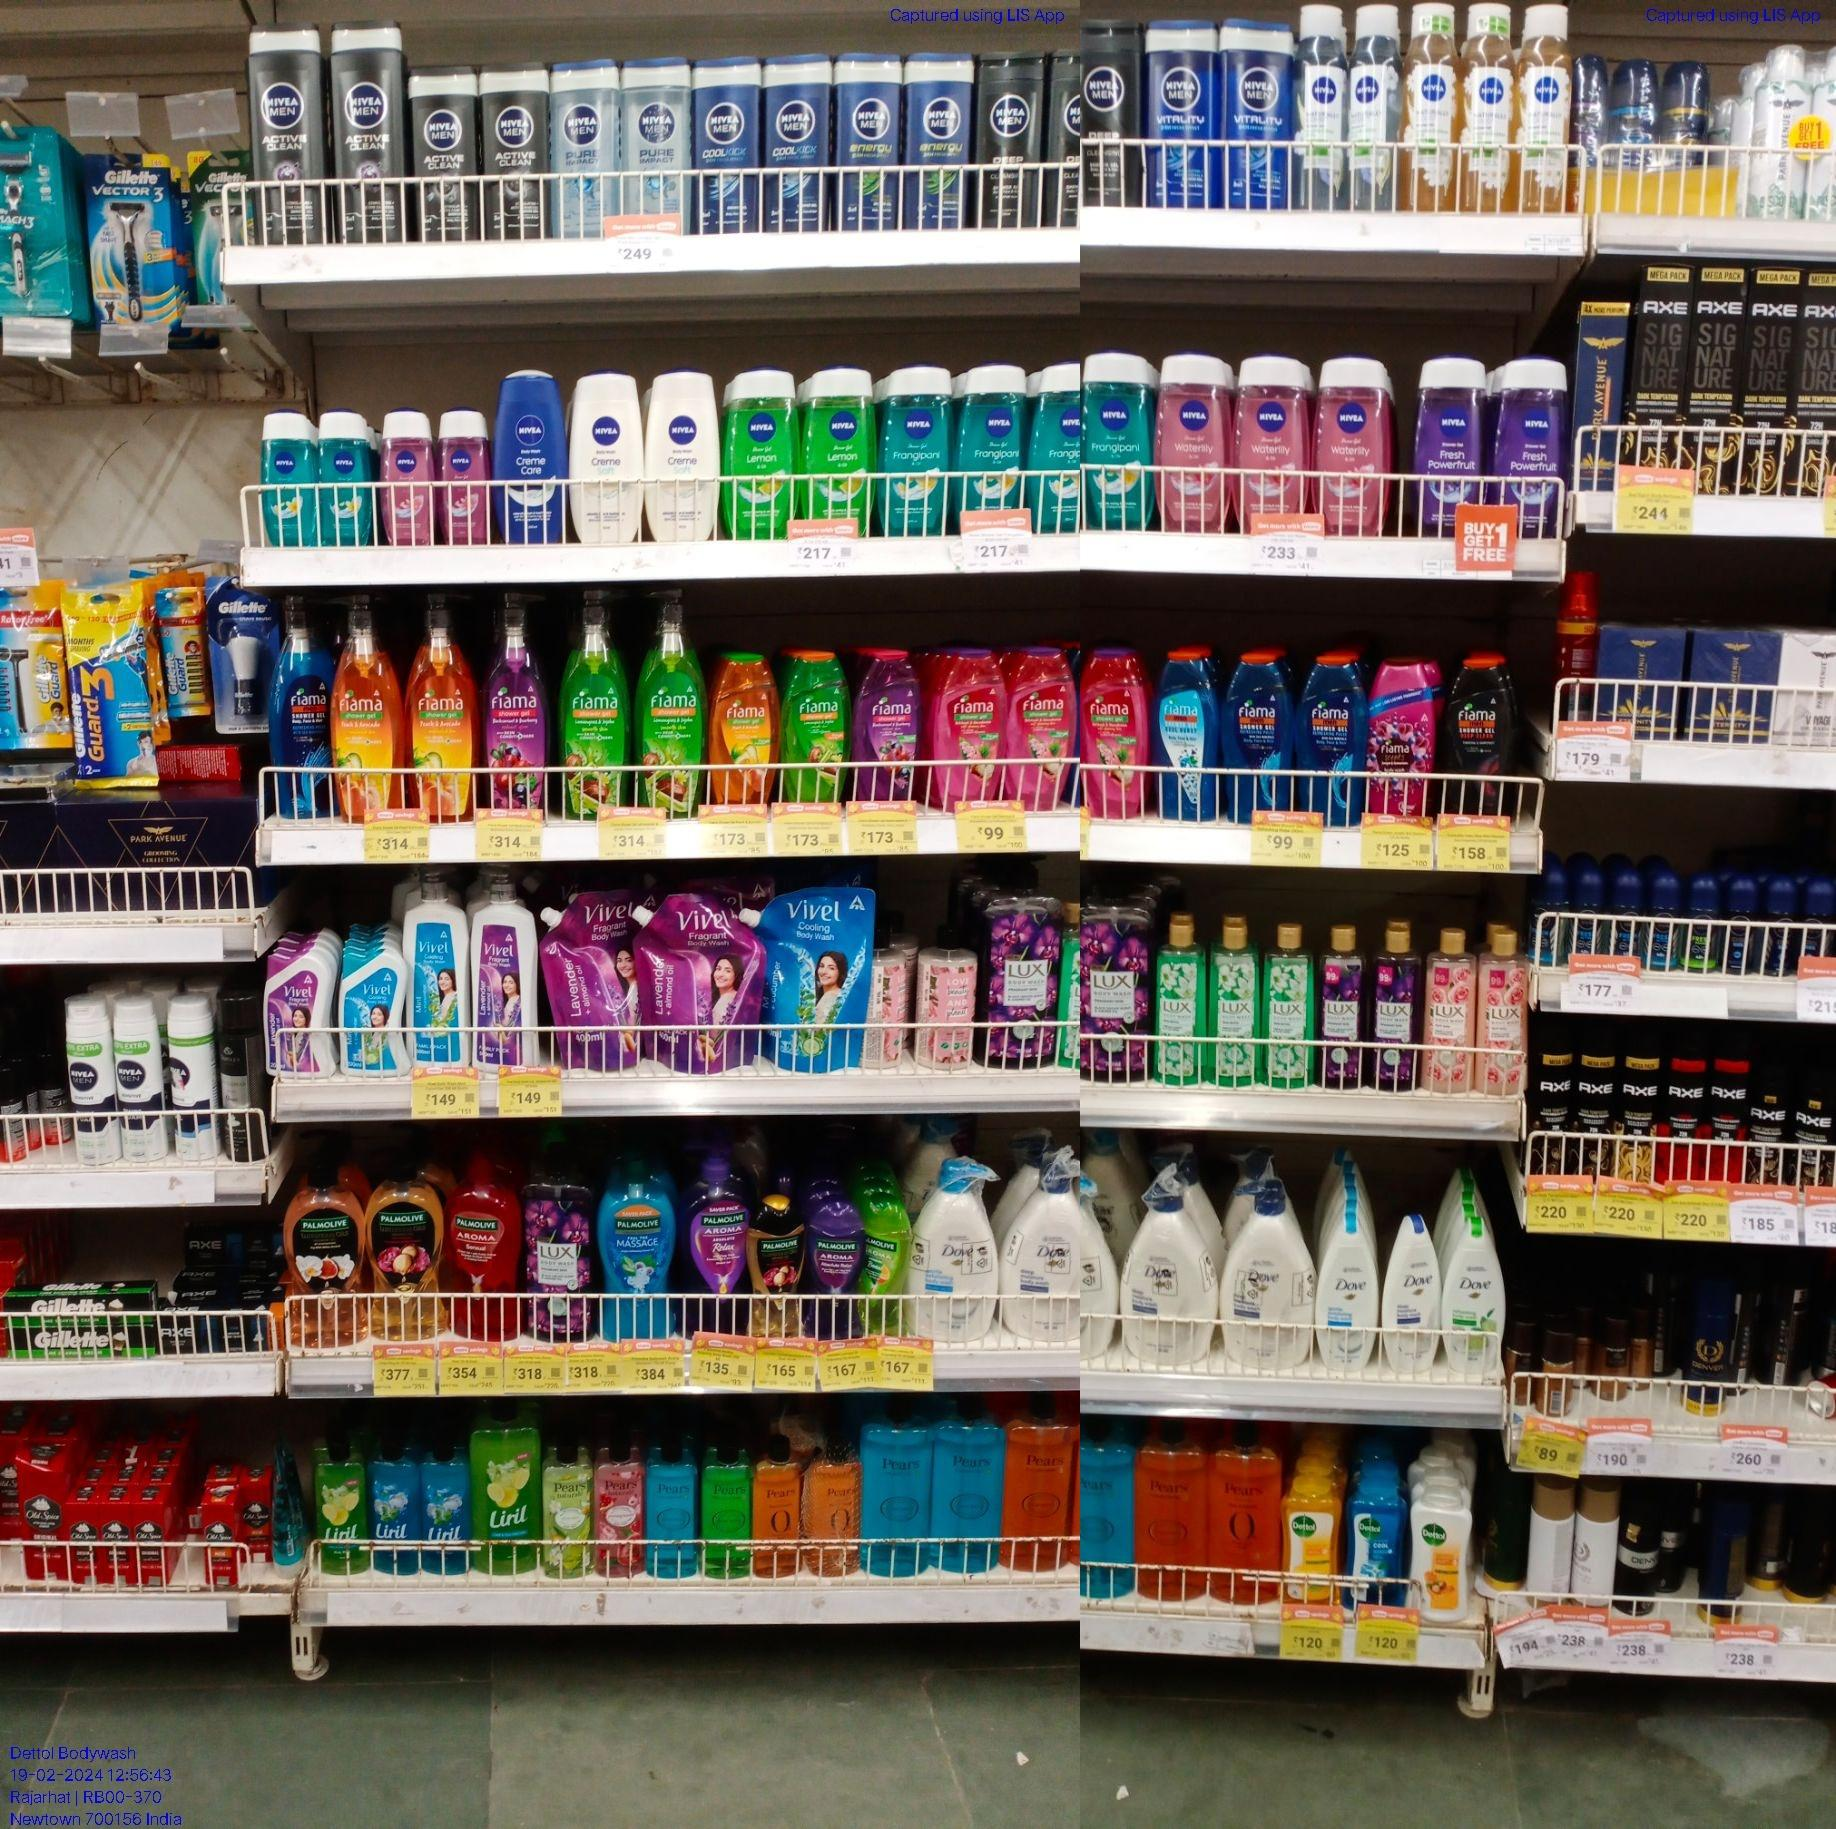Dettol_Bodywash_Cool: (1345, 1477, 1404, 1611)
Dettol_Bodywash_Refresh: (1283, 1474, 1343, 1606)
Dove_Deep_Moisture_Body_Wash_250ML: (1385, 1219, 1442, 1373)
Dove_Gentle_Exfoliating_Body_Wash_250ML: (1315, 1214, 1380, 1370)
Dove_Refreshing_Body_Wash_250ML: (1442, 1221, 1506, 1378)
Fiama_Shower_Gel_Lemongrass_and_Jojoba_250ML: (789, 652, 849, 802)
Fiama_Shower_Gel_Patchouli_and_Macadamia_250ML: (1007, 648, 1077, 809), (1080, 648, 1144, 814), (943, 648, 1003, 812)
Fiama_Shower_Gel_Peach_and_Avocado_250ML: (714, 655, 782, 802)
Liril_Cooling_Mint_Body_Wash_250ML: (365, 1444, 422, 1573), (422, 1439, 469, 1574)
Liril_Lime_and_Tea_Tree_Oil_Body_Wash_250ML: (320, 1445, 364, 1573)
Lux_Black_Orchid_Scent_and_Juniper_Oil_Body_Wash_245ML: (1369, 925, 1424, 1092), (1318, 925, 1367, 1089)
Lux_Body_Wash_Skin_Detox_Freesia_Scent_and_Alove_Vera_245ML: (1156, 916, 1211, 1080), (1211, 920, 1265, 1080), (1266, 921, 1315, 1089)
Nivea_Creme_Care_Body_Wash_250ML: (496, 368, 566, 543)
Nivea_Shower_Gel_Frangipani_and_Oil_250ML: (879, 368, 953, 536), (1089, 357, 1163, 523), (957, 363, 1027, 529), (317, 412, 374, 546), (263, 412, 315, 546)
Nivea_Shower_Gel_Fresh_Powerfruit_250ML: (1496, 360, 1573, 541), (1419, 362, 1493, 539)
Nivea_Shower_Gel_Lemon_and_Oil_250ML: (802, 370, 879, 533), (730, 375, 794, 529)
Nivea_Shower_Gel_Waterlily_and_Oil_250ML: (1238, 357, 1315, 526), (1318, 362, 1390, 528), (1163, 353, 1231, 524), (442, 410, 493, 544), (385, 412, 436, 544)
Palmolive_Aroma_Relax_250ML: (807, 1201, 863, 1348)
Palmolive_Luminous_Oils_With_White_Orchid_Shower_Gel_250ML: (750, 1199, 807, 1337)
Pears_Pure_Glycerin_and_Mint_Extracts_Body_Wash_250ML: (861, 1394, 935, 1576), (935, 1394, 1005, 1571), (1079, 1420, 1137, 1600), (648, 1437, 697, 1576)
